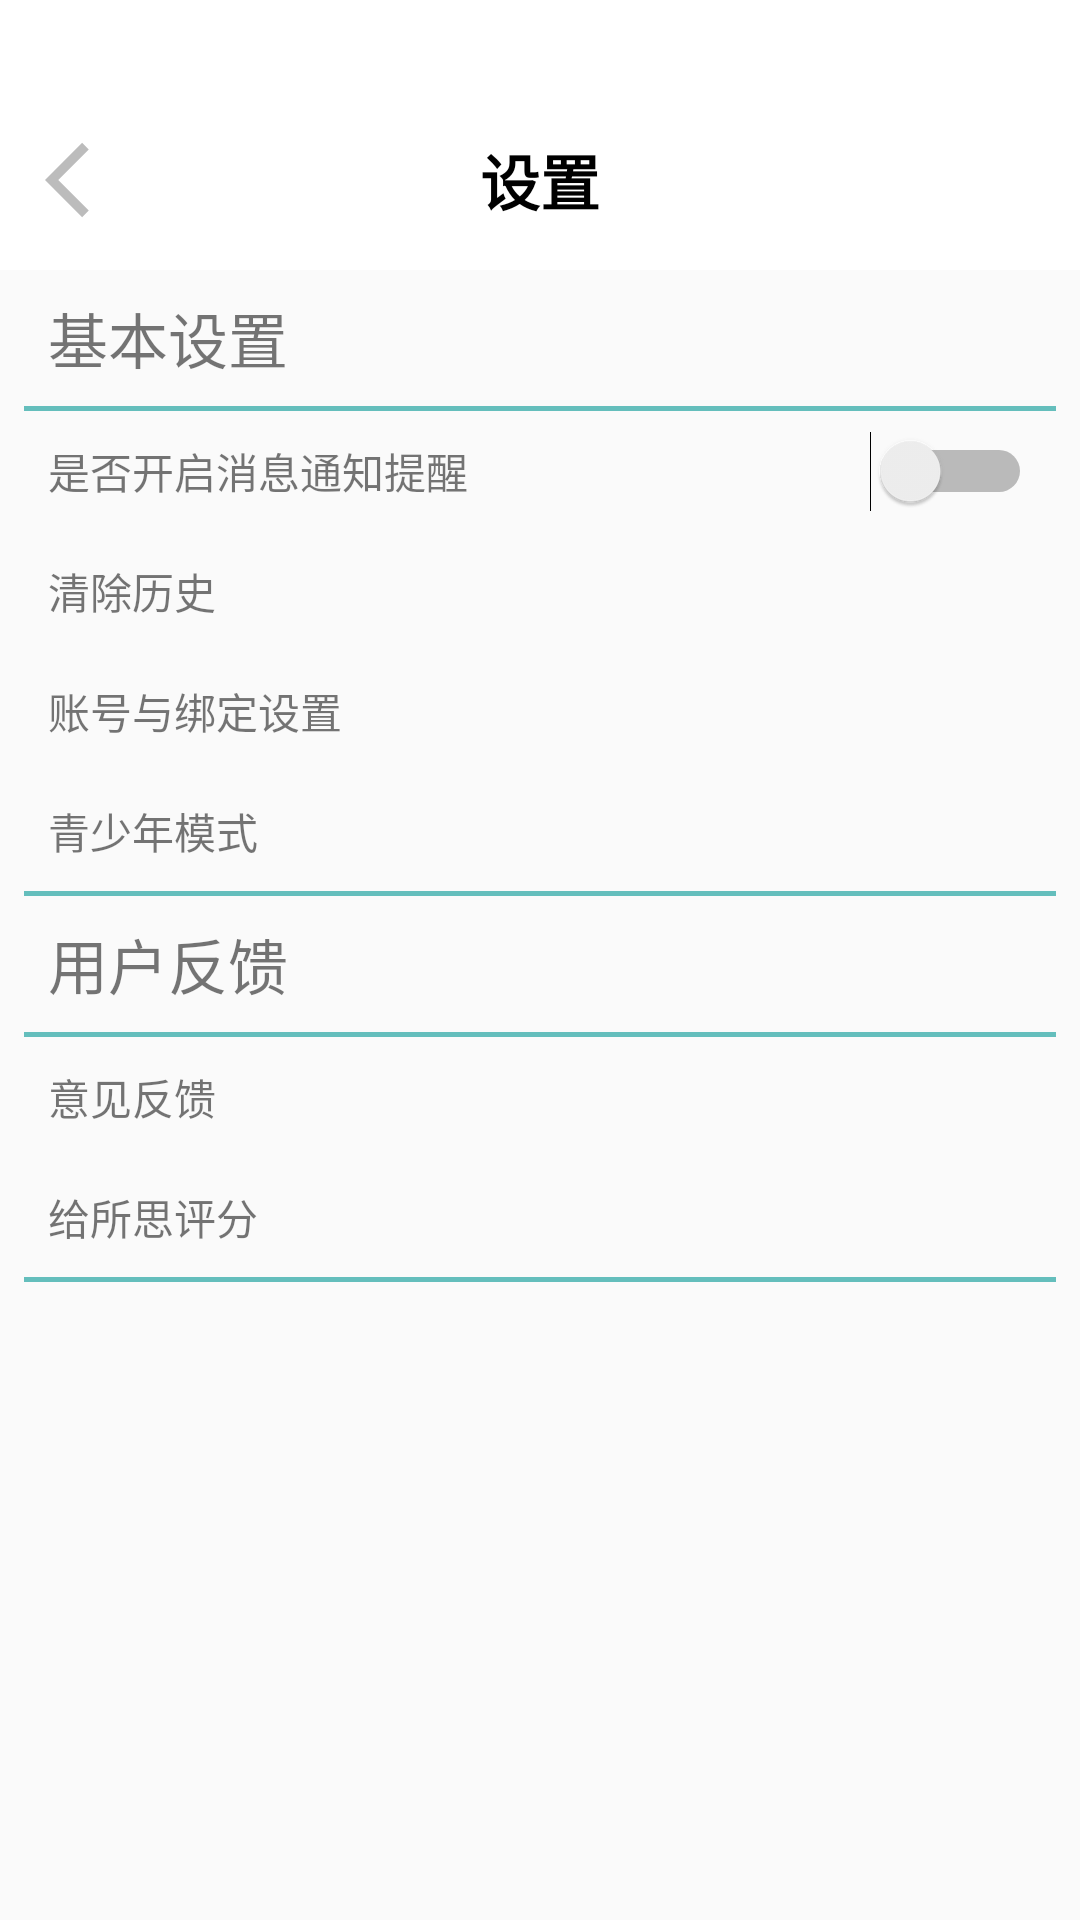

Screen size 1080 x 1920. Icon name, then its box in pixels as Rect(x1, y1, x2, y2):
arrow back: Rect(45, 143, 89, 217)
